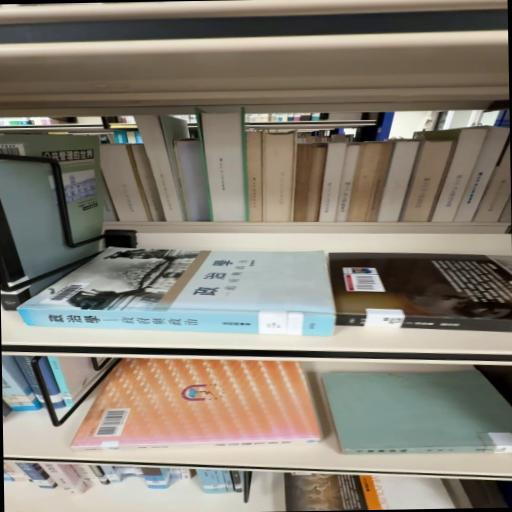flat: (18, 247, 336, 336), (71, 359, 321, 451), (322, 370, 512, 457)
